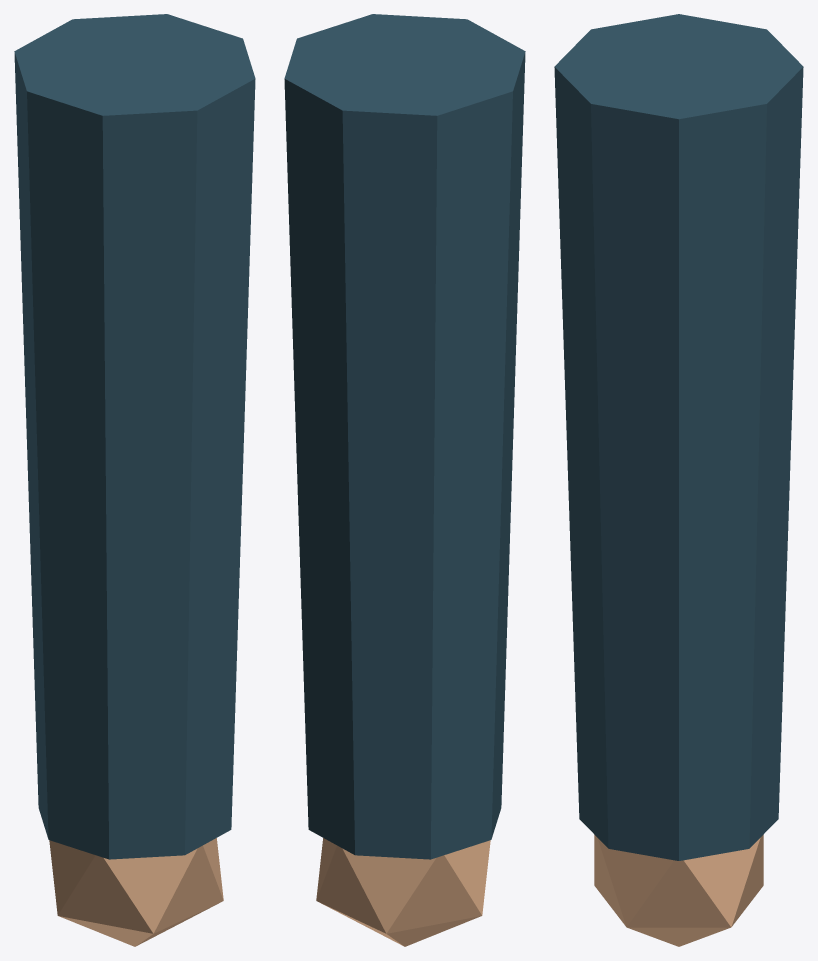
File: insan_k3_kol.glb
3 renders of one model, left to right at view 1: azimuth 30°, elevation 25°; view 2: azimuth 150°, elevation 25°; view 3: azimuth 270°, elevation 25°, orthographic.
Visible parts, largest first — view 1: Cone; view 2: Cone; view 3: Cone.
Boxes of the visible parts, x1,y1,x2,y2 form: Cone: [14, 14, 255, 946]; Cone: [284, 14, 525, 946]; Cone: [554, 14, 803, 946].
Size of the model in its own units: 0.03 by 0.117 by 0.03.
